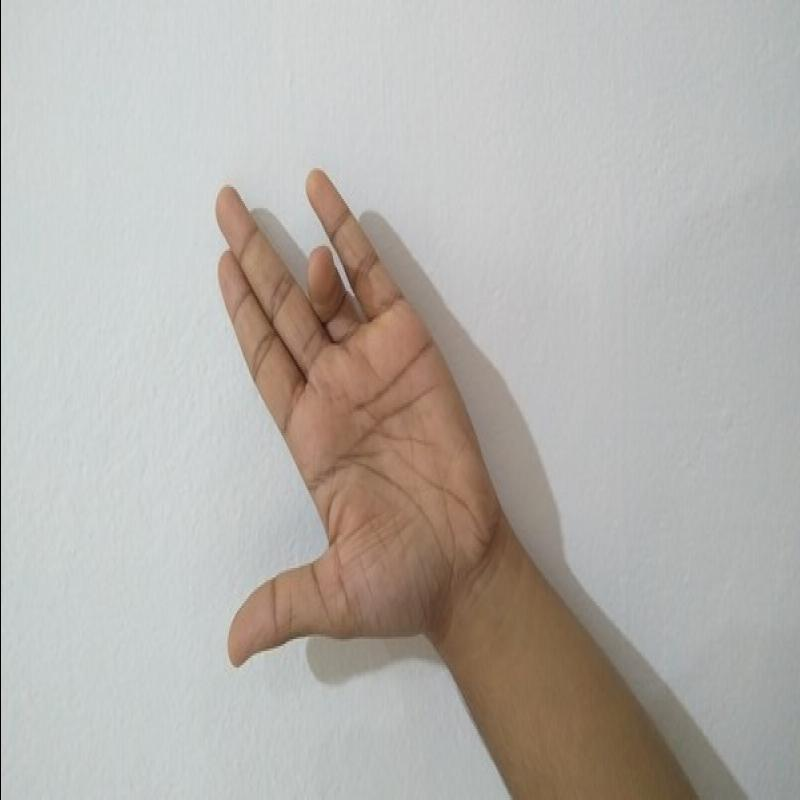Pathaaka: (191, 157, 511, 673)
